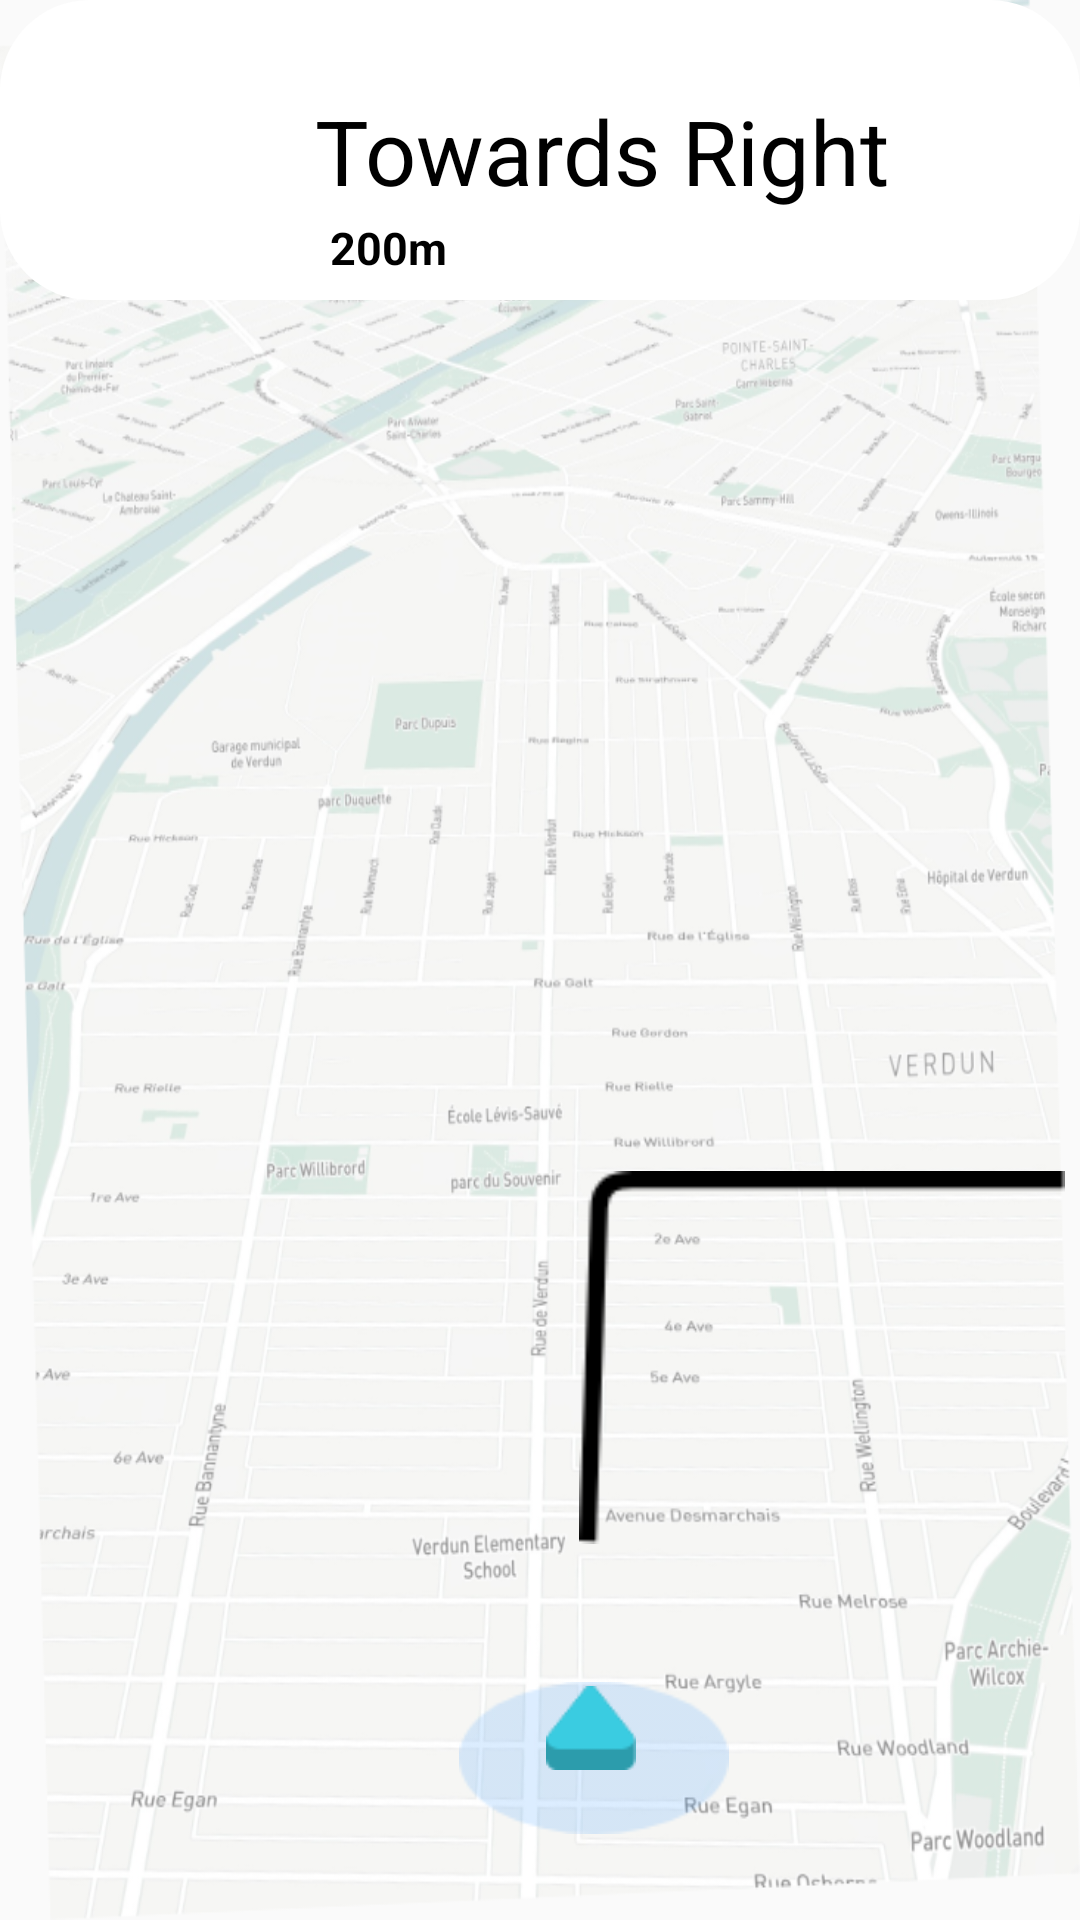

Where icons sit on this 1080px×1920px app screen, as (x1=x1, y1=y1, x2=x2, y2=y2):
triangle: (x1=546, y1=1686, x2=636, y2=1770)
